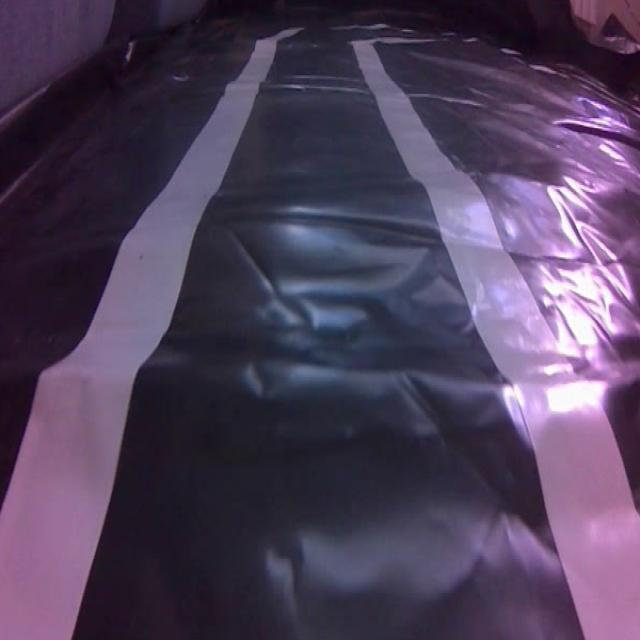LineaCarril: (0, 33, 287, 640), (355, 42, 640, 640)
